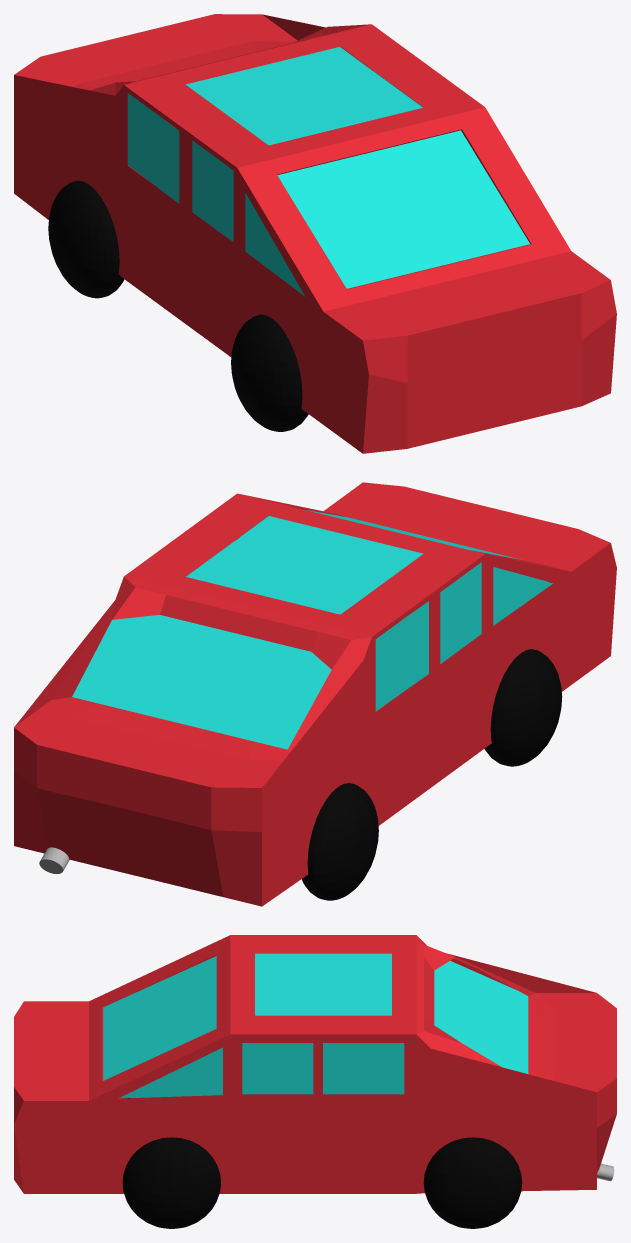
Rendered from carro.fbx.
The picture shows the model from 3 angles, top to bottom: view 1: azimuth 30°, elevation 25°; view 2: azimuth 150°, elevation 25°; view 3: azimuth 270°, elevation 25°; orthographic projection. The views are drawn at different scales.
Visible parts, largest first — view 1: Carro; view 2: Carro; view 3: Carro.
Part boxes in pixels (<box>): Carro: <box>14,14,616,453</box>; Carro: <box>14,482,616,906</box>; Carro: <box>14,935,616,1228</box>.
Size of the model in its own units: 596 by 430 by 1223.
